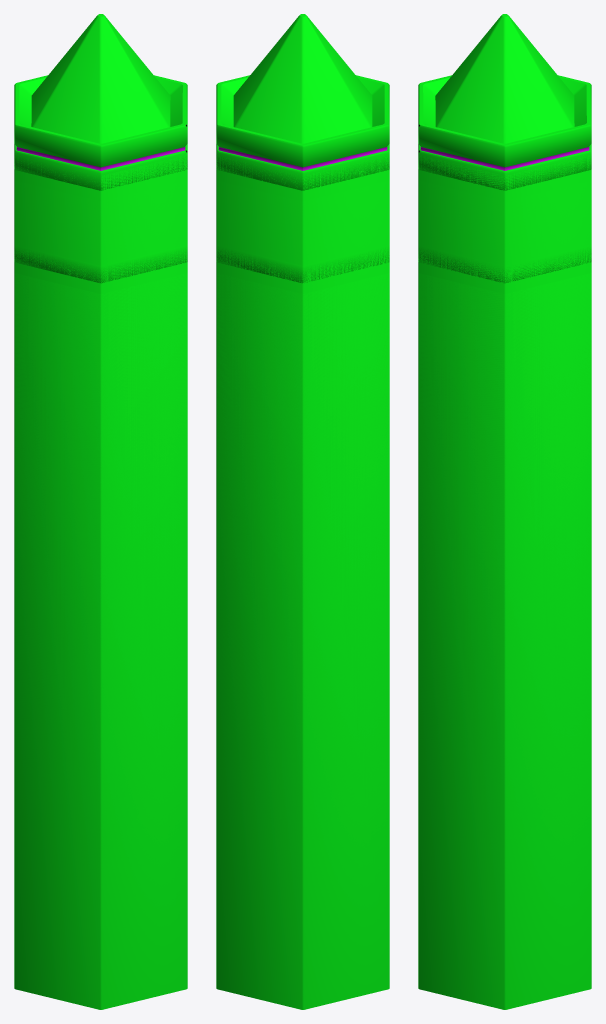
File: PointedHex.FBX
3 views of the same model, side by side, from view 1: azimuth 30°, elevation 25°; view 2: azimuth 150°, elevation 25°; view 3: azimuth 270°, elevation 25° (orthographic).
Visible parts, largest first — view 1: Object139, Object142, Object141; view 2: Object141, Object139, Object142; view 3: Object139, Object142, Object141.
Part boxes in pixels (bbox=[...]): Object139: bbox=[14, 244, 187, 1009]; Object142: bbox=[14, 75, 187, 1009]; Object141: bbox=[14, 14, 187, 1009]; Object141: bbox=[216, 14, 389, 1009]; Object139: bbox=[216, 244, 389, 1009]; Object142: bbox=[216, 75, 389, 1009]; Object139: bbox=[418, 245, 591, 1009]; Object142: bbox=[418, 75, 591, 1006]; Object141: bbox=[418, 14, 591, 1009].
Bounding box in the file's own units: 250 × 218 × 1323.
